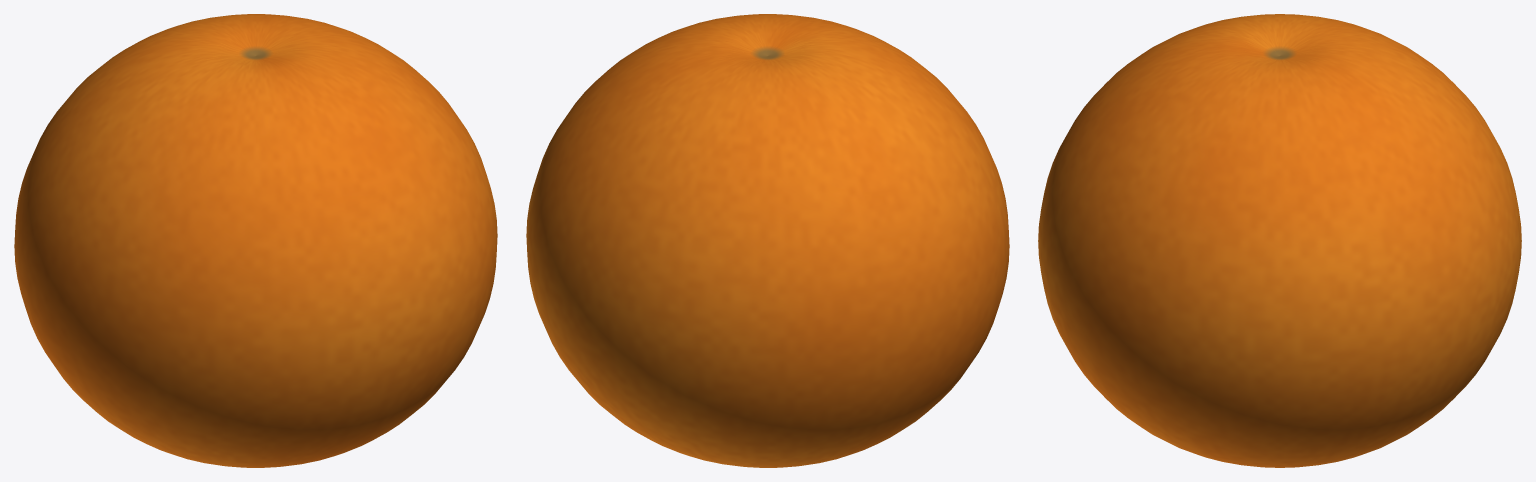
3 renders of one model, left to right at view 1: azimuth 30°, elevation 25°; view 2: azimuth 150°, elevation 25°; view 3: azimuth 270°, elevation 25°, orthographic.
Parts seen in each view (by area): view 1: Orange; view 2: Orange; view 3: Orange.
Boxes of the visible parts, box(x1,y1,x2,y2) form: Orange: box(14, 14, 497, 467); Orange: box(526, 14, 1009, 467); Orange: box(1038, 14, 1521, 467).
Bounding box in the file's own units: 0.0752 × 0.066 × 0.0752.
Materials: 1 (1 with a texture image).
